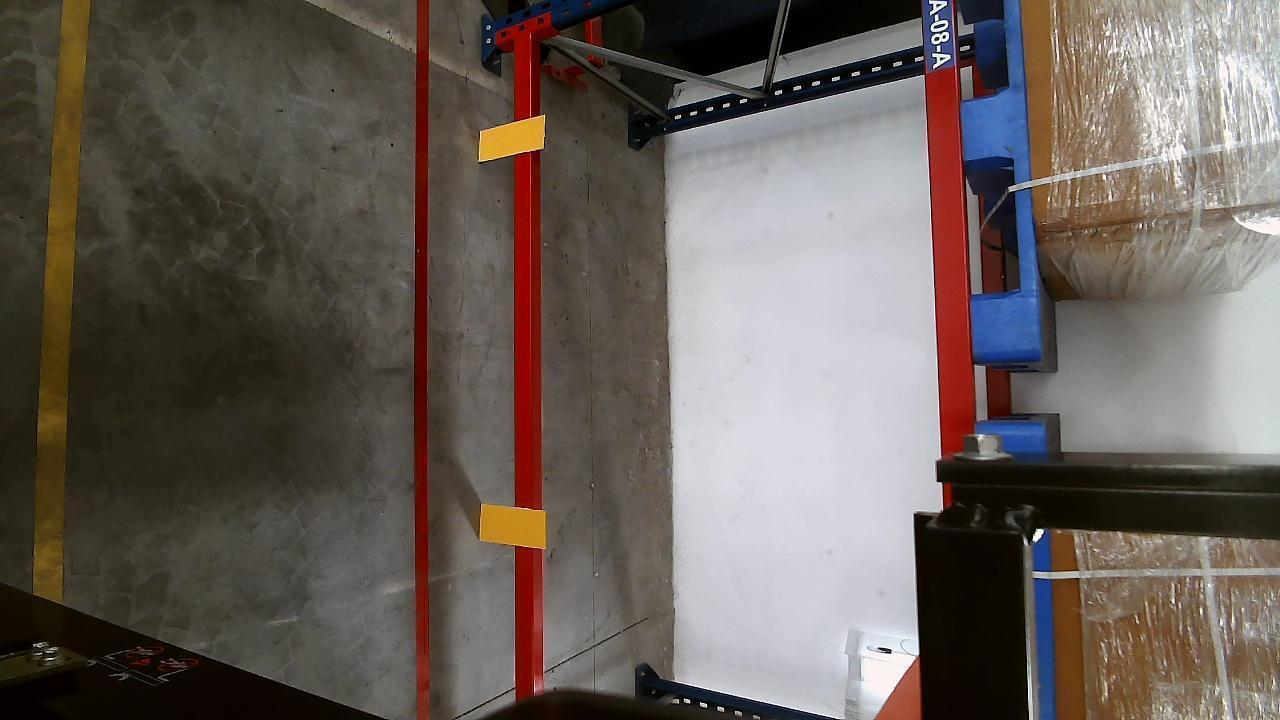red_line: (414, 0, 438, 716)
yellow_line: (31, 2, 92, 602)
